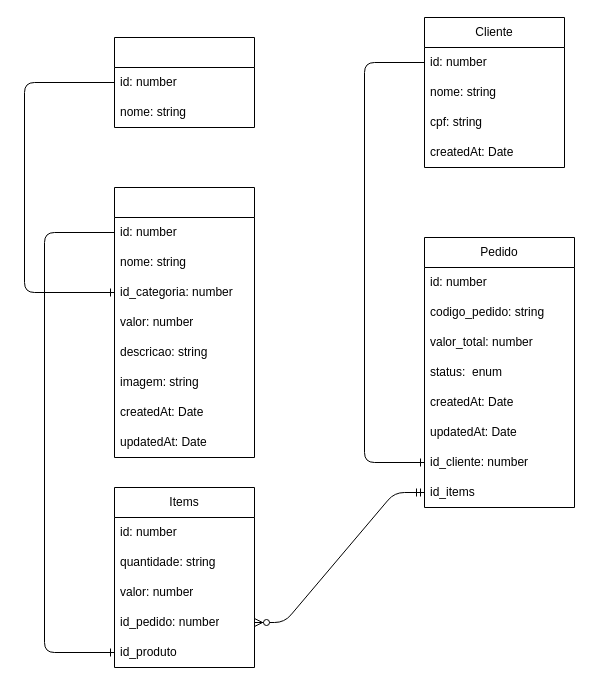
This 592x685 diagram has some shape labels left out. Each missing label, with the box of its shape:
Categoria: (114, 36, 254, 128)
Produto: (114, 186, 254, 458)
